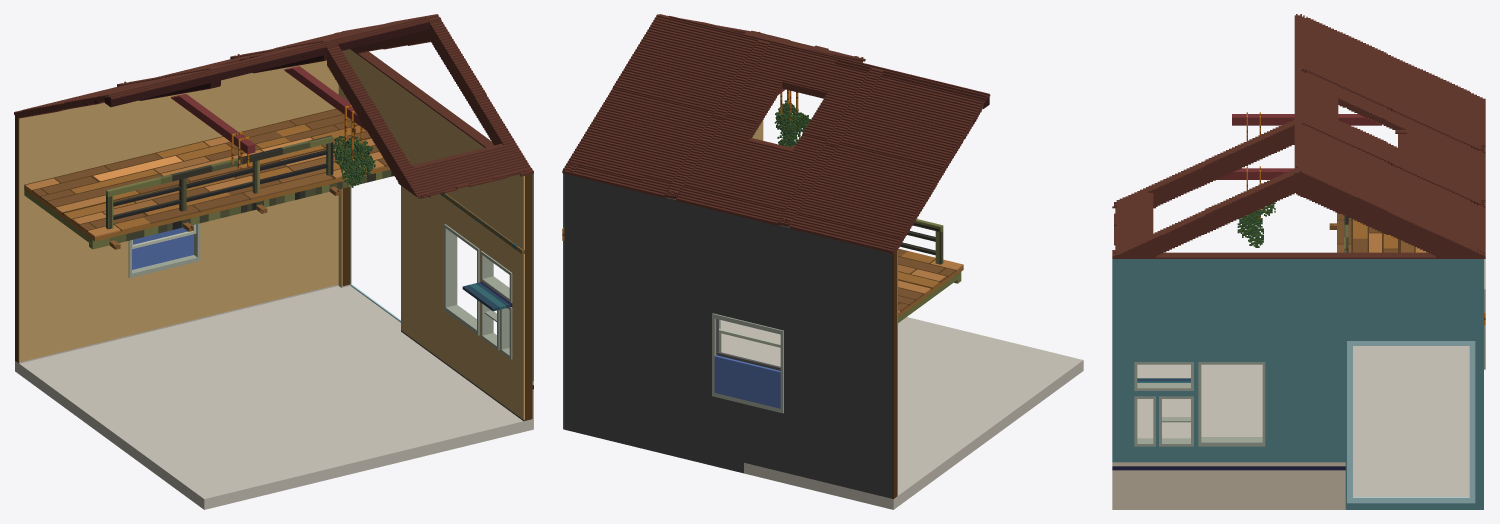
The model's file is Nha-19.obj.
3 renders of one model, left to right at view 1: azimuth 30°, elevation 25°; view 2: azimuth 150°, elevation 25°; view 3: azimuth 270°, elevation 25°, orthographic. The views are drawn at different scales.
Size of the model in its own units: 25.6 by 25.6 by 25.6.
Materials: 1 (1 with a texture image).
